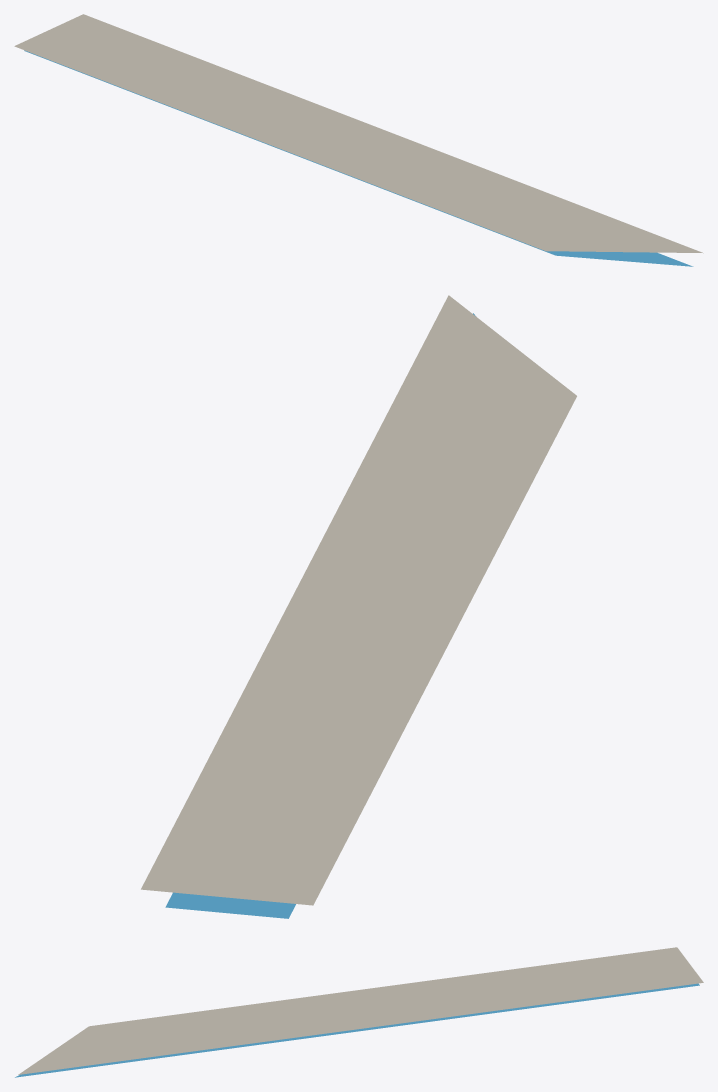
The picture shows the model from 3 angles, top to bottom: view 1: azimuth 30°, elevation 25°; view 2: azimuth 150°, elevation 25°; view 3: azimuth 270°, elevation 25°; orthographic projection. The views are drawn at different scales.
Visible parts, largest first — view 1: estructura_terreno, estructura_agua; view 2: estructura_terreno, estructura_agua; view 3: estructura_terreno, estructura_agua.
Part boxes in pixels (bbox=[...]): estructura_terreno: bbox=[14, 14, 703, 253]; estructura_agua: bbox=[24, 50, 693, 266]; estructura_terreno: bbox=[141, 295, 576, 905]; estructura_agua: bbox=[165, 313, 476, 918]; estructura_terreno: bbox=[18, 947, 703, 1074]; estructura_agua: bbox=[15, 983, 699, 1077].
Bounding box in the file's own units: 14.38 × 0.41 × 32.79.
